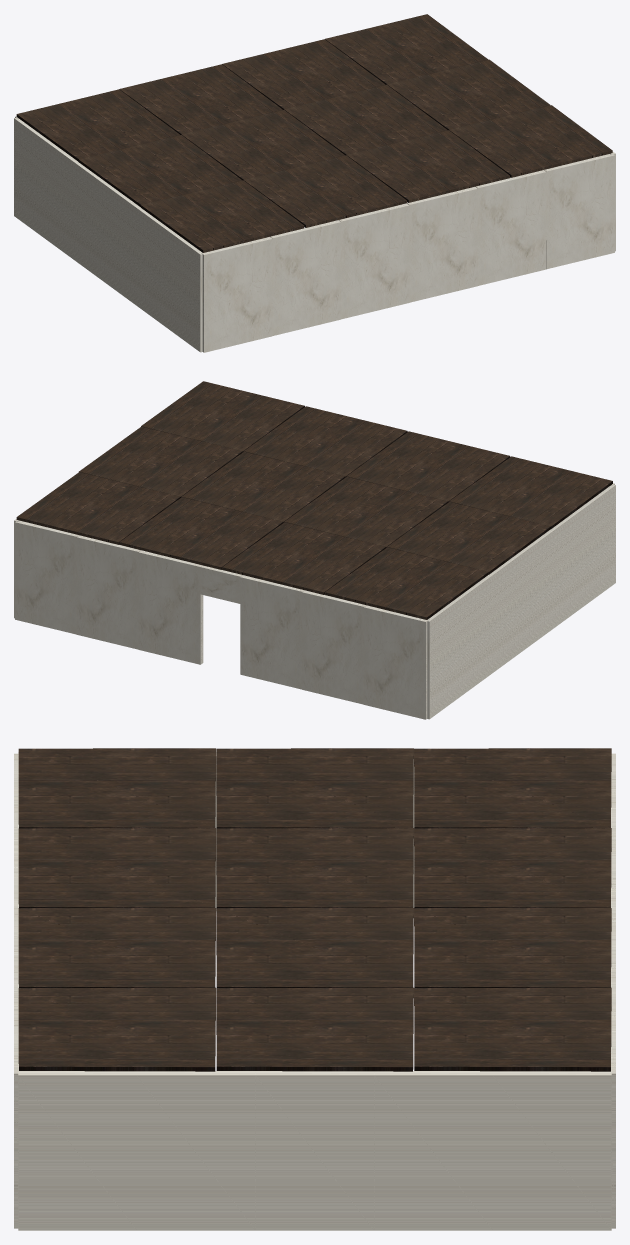
Rendered from int-shell-domestic-narrow-a.glb.
The picture shows the model from 3 angles, top to bottom: view 1: azimuth 30°, elevation 25°; view 2: azimuth 150°, elevation 25°; view 3: azimuth 270°, elevation 25°; orthographic projection. The views are drawn at different scales.
Parts seen in each view (by area): view 1: ceiling_backing_00_00; view 2: ceiling_backing_00_00; view 3: ceiling_backing_00_00.
Boxes of the visible parts, box(x1,y1,x2,y2) form: ceiling_backing_00_00: box(14, 14, 615, 352); ceiling_backing_00_00: box(14, 381, 615, 719); ceiling_backing_00_00: box(14, 748, 615, 1230).
Size of the model in its own units: 14.16 by 3.3 by 11.16.
2 materials, 2 textured.
